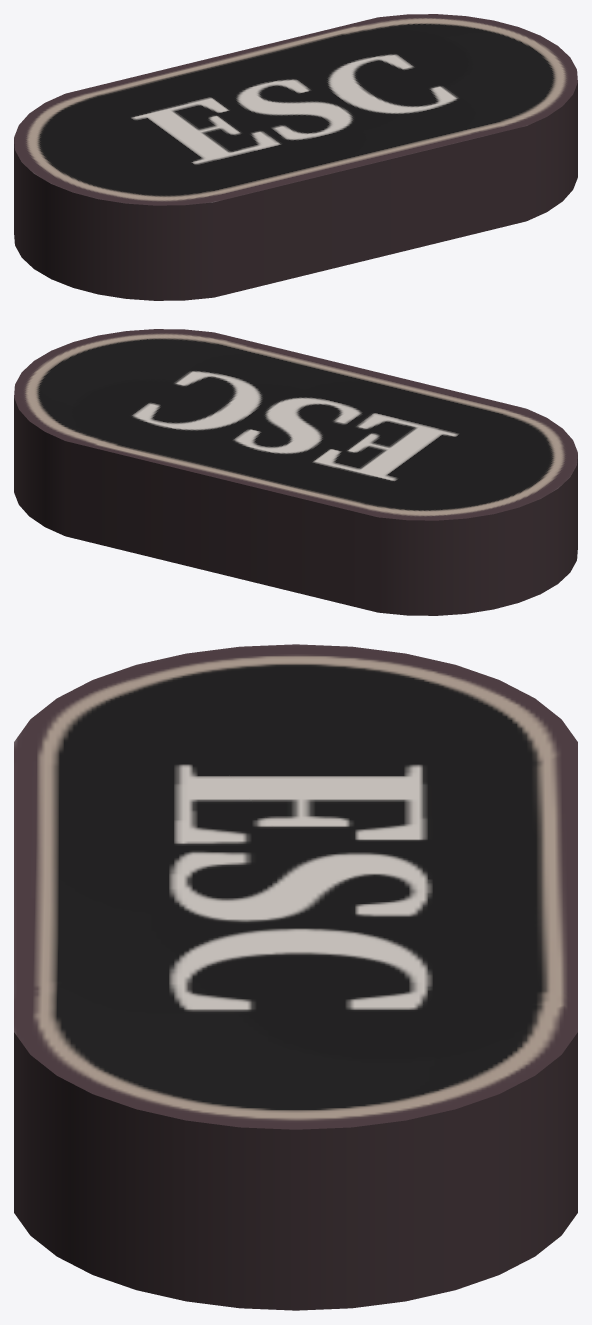
Rendered from esc.obj.
The picture shows the model from 3 angles, top to bottom: view 1: azimuth 30°, elevation 25°; view 2: azimuth 150°, elevation 25°; view 3: azimuth 270°, elevation 25°; orthographic projection. The views are drawn at different scales.
Visible parts, largest first — view 1: esc; view 2: esc; view 3: esc.
Boxes of the visible parts, x1=… form: esc: x1=14, y1=14, x2=577, y2=300; esc: x1=14, y1=329, x2=577, y2=615; esc: x1=14, y1=644, x2=577, y2=1310.
Size of the model in its own units: 1 by 0.1737 by 0.491.
Materials: 1 (1 with a texture image).
